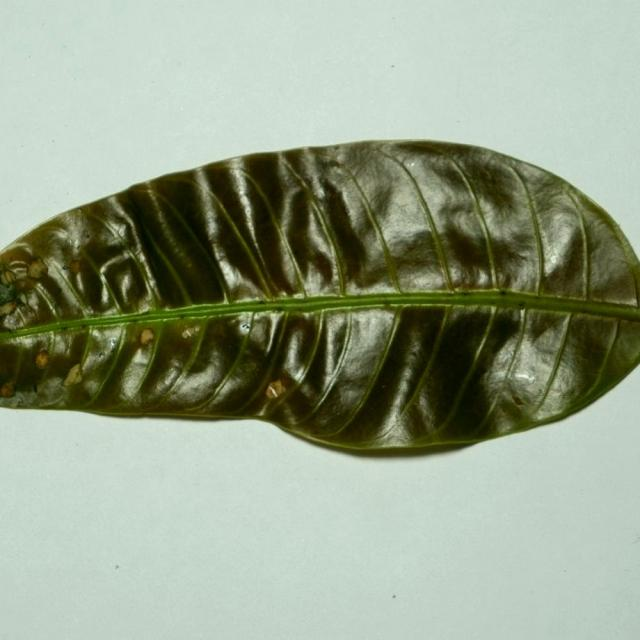Anthracnose: (87, 324, 163, 392), (3, 343, 68, 400), (115, 322, 163, 353), (267, 372, 295, 398), (1, 380, 20, 399), (65, 256, 83, 276), (181, 325, 200, 339)
Mango: (1, 140, 639, 462)
